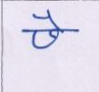au_matra: (37, 11, 65, 34)
